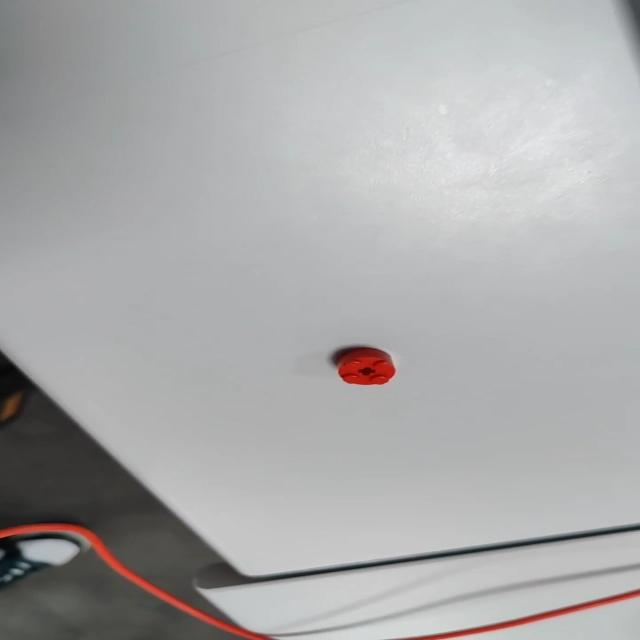S2x2x1: (328, 344, 398, 388)
